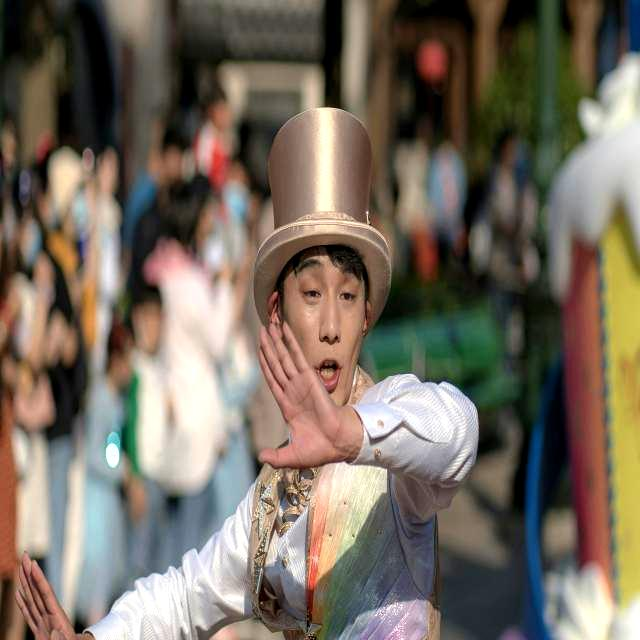no_hard_hat: (254, 108, 391, 327)
person: (14, 109, 479, 640)
